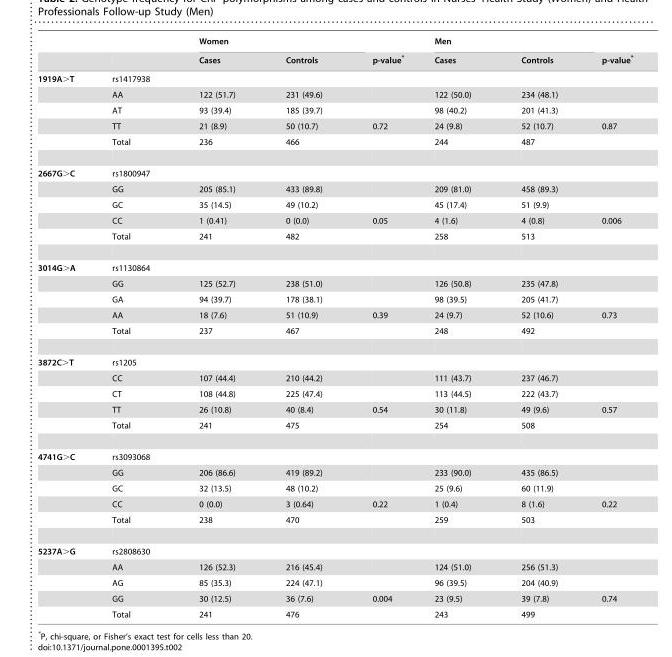table: (37, 36, 632, 618)
table column: (259, 36, 346, 618), (173, 36, 259, 618), (495, 36, 579, 618), (92, 36, 173, 618), (418, 36, 495, 618), (346, 36, 418, 618), (37, 36, 92, 618), (579, 36, 632, 618)
table column header: (37, 36, 632, 69)
table row: (37, 133, 632, 157), (37, 157, 632, 181), (37, 251, 632, 275), (37, 322, 632, 346), (37, 346, 632, 370), (37, 440, 632, 464), (37, 511, 632, 535), (37, 535, 632, 559), (37, 228, 632, 251), (37, 417, 632, 440), (37, 49, 632, 69), (37, 69, 632, 86), (37, 86, 632, 102), (37, 102, 632, 118), (37, 196, 632, 212), (37, 212, 632, 228), (37, 275, 632, 291), (37, 291, 632, 307), (37, 385, 632, 401), (37, 401, 632, 417), (37, 464, 632, 480), (37, 480, 632, 496), (37, 574, 632, 590), (37, 590, 632, 606), (37, 118, 632, 133), (37, 181, 632, 196), (37, 307, 632, 322), (37, 370, 632, 385), (37, 496, 632, 511), (37, 559, 632, 574), (37, 36, 632, 49), (37, 606, 632, 618)
table spanning cell: (37, 251, 92, 346), (37, 440, 92, 535), (37, 157, 92, 251), (37, 346, 92, 440), (37, 69, 92, 157), (37, 535, 92, 618), (346, 36, 418, 69), (173, 36, 346, 49), (418, 36, 579, 49), (579, 36, 632, 69)
